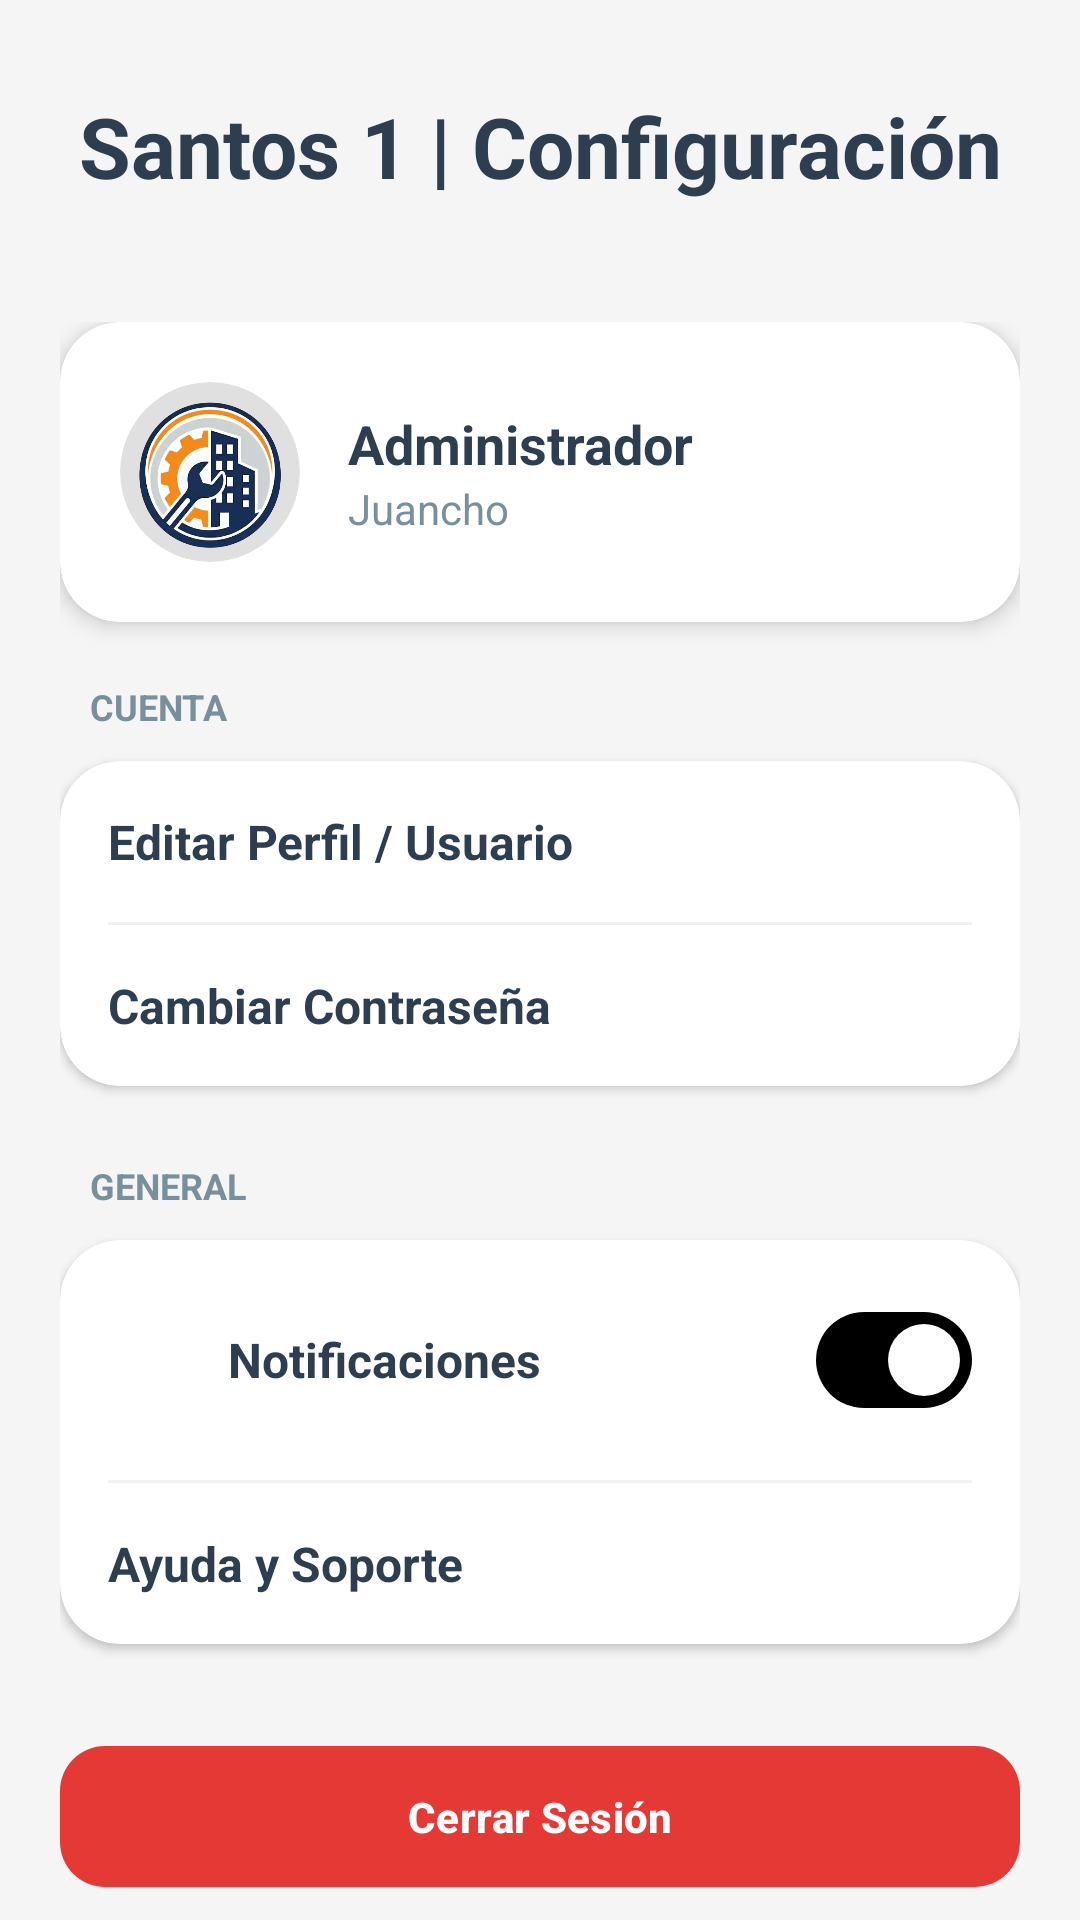

Named icons in this screenshot (1080w x 1920h) and their centers, point (x, y):
systemmanager sinfondo: point (210, 472)
